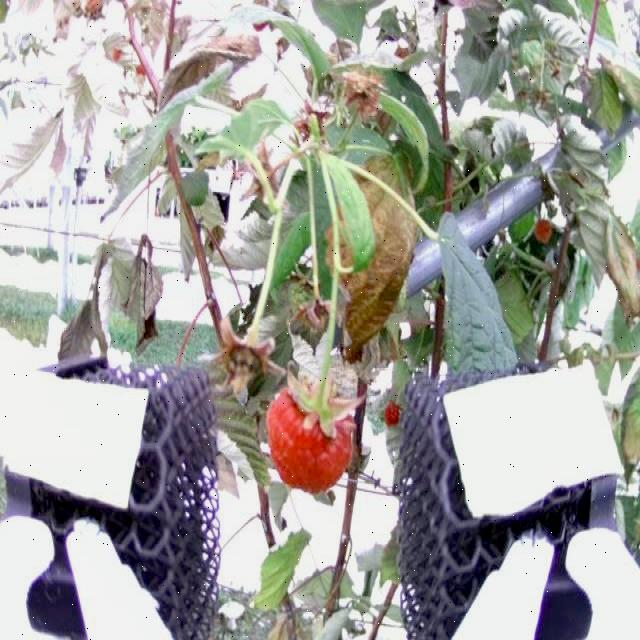Riped berries: (265, 382, 367, 493)
